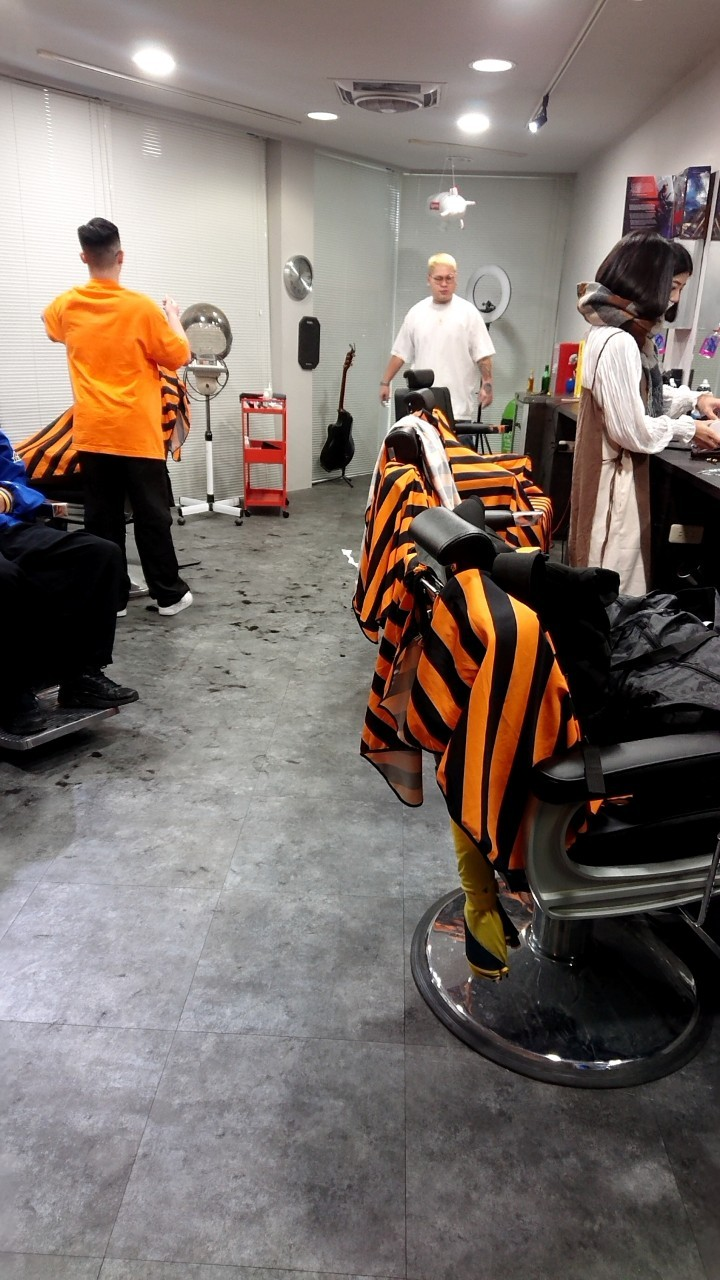people: (46, 219, 199, 612), (573, 233, 675, 590), (395, 253, 489, 429)
